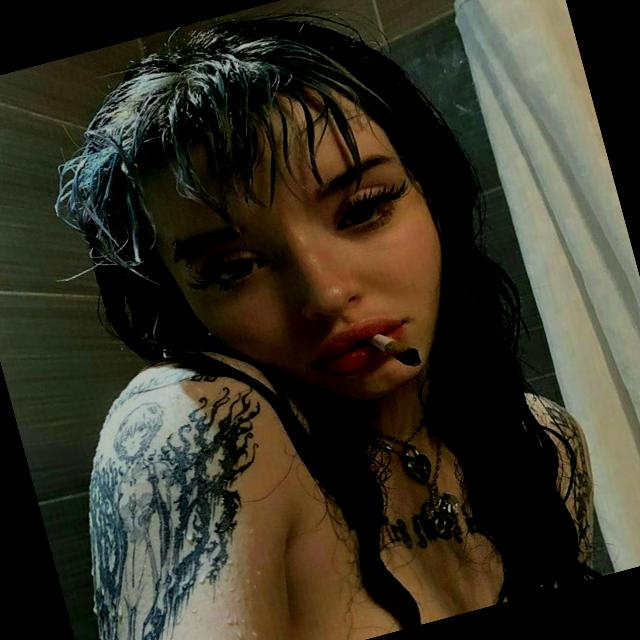smoke: (336, 294, 475, 416)
